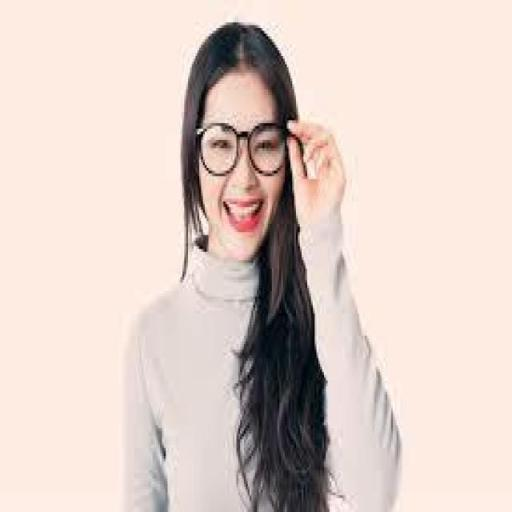glasses: (186, 94, 304, 192)
